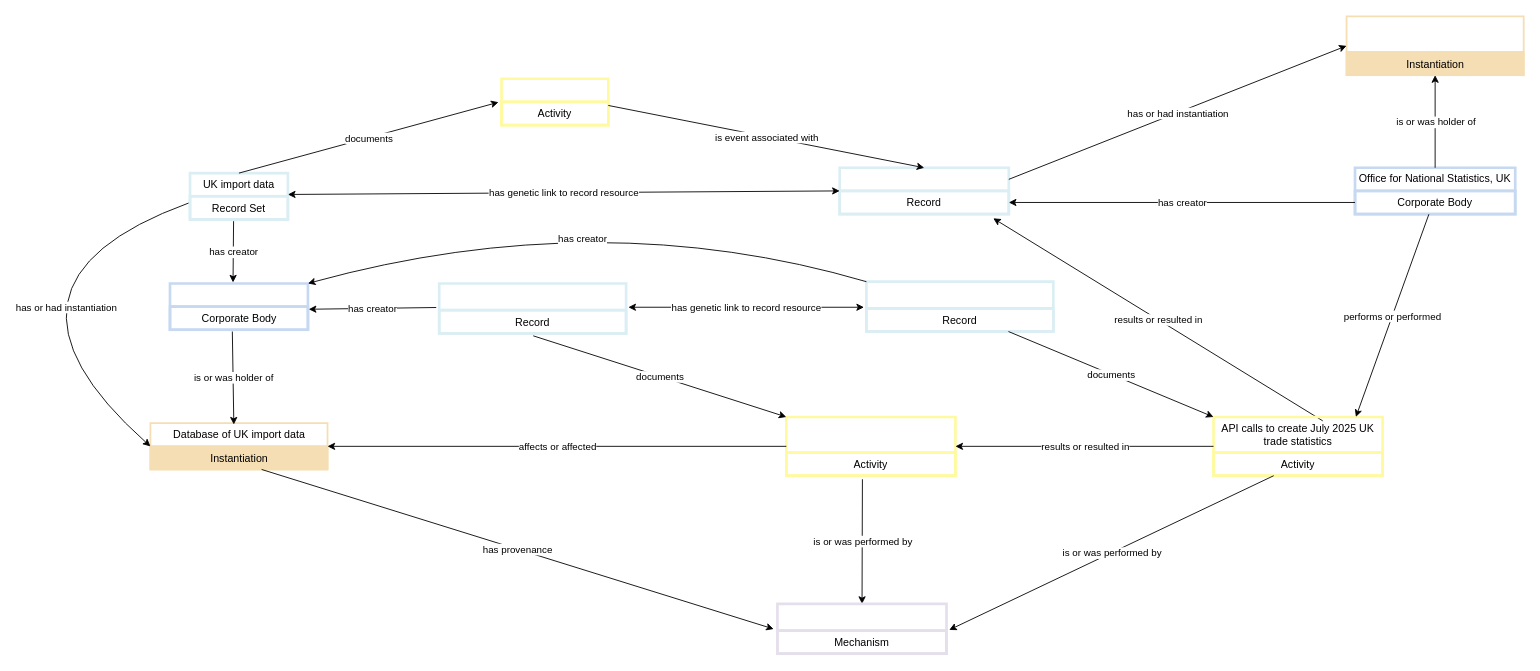
The diagram is 1540 pixels wide and 671 high, and some of its shapes have lost their labels. Here are the shapes that lost their labels. From the top down, the box of each, then its label:
(1345, 15, 1524, 76): Webpage detailing UK trade statistics for July 2025
(500, 77, 609, 126): Imports to the UK
(838, 166, 1010, 215): UK trade statistics for July 2025
(168, 282, 309, 331): HM Revenue & Customs
(437, 282, 627, 334): SQL query to obtain total value of goods imported to the UK in July 2025
(865, 280, 1054, 332): API call to obtain total value of good imported to the UK in July 2025
(785, 415, 956, 477): SQL queries run to create July 2025 UK trade statistics
(776, 602, 947, 655): HM Revenue & Customs' software
